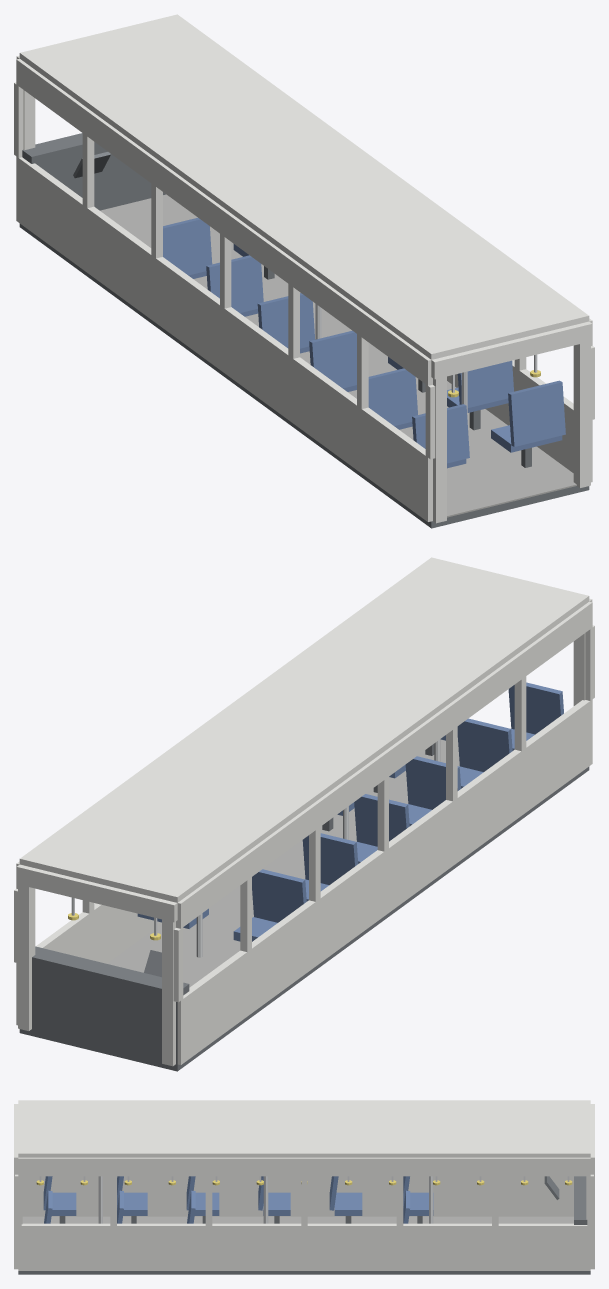
The model's file is BusCabin.fbx.
3 views of the same model, one above another, from view 1: azimuth 30°, elevation 25°; view 2: azimuth 150°, elevation 25°; view 3: azimuth 270°, elevation 25° (orthographic). The views are drawn at different scales.
Visible parts, largest first — view 1: BusCabin; view 2: BusCabin; view 3: BusCabin.
Boxes of the visible parts, x1,y1,x2,y2 form: BusCabin: (14, 14, 594, 528); BusCabin: (14, 557, 594, 1071); BusCabin: (14, 1100, 594, 1274).
Bounding box in the file's own units: 240 × 243 × 1056.
